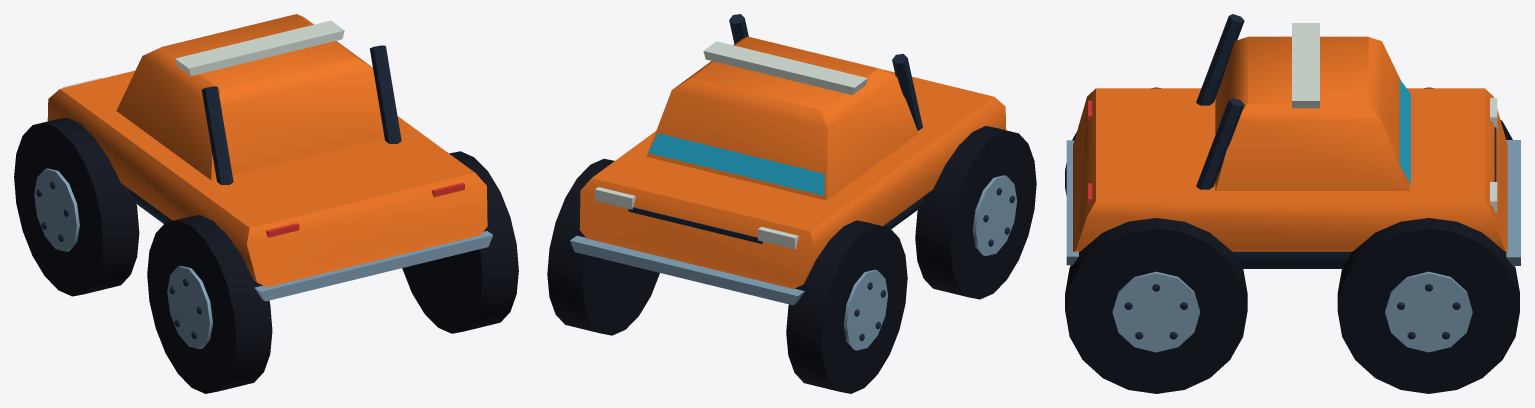
The model's file is MonsterTruck.glb.
3 views of the same model, side by side, from view 1: azimuth 30°, elevation 25°; view 2: azimuth 150°, elevation 25°; view 3: azimuth 270°, elevation 25° (orthographic). The views are drawn at different scales.
Parts seen in each view (by area): view 1: chassis, high_cab, -1_front_tread, -1_rear_tread, 1_rear_tread, roof_lightbar, rear_bumper, -1_front_rim, -1_rear_rim, roll_bar_-1, roll_bar_1; view 2: chassis, high_cab, -1_rear_tread, -1_front_tread, 1_front_tread, windshield, front_bumper, roof_lightbar, -1_rear_rim, -1_front_rim, roll_bar_-1, front_grille (+2 smaller); view 3: chassis, high_cab, 1_front_tread, 1_rear_tread, 1_rear_rim, 1_front_rim, roof_lightbar, undertray, front_bumper, roll_bar_1, roll_bar_-1, windshield (+1 smaller).
Part boxes in pixels (x1,y1,x2,y2): chassis: [47, 70, 487, 287]; high_cab: [116, 14, 384, 180]; -1_front_tread: [14, 117, 139, 296]; -1_rear_tread: [147, 215, 272, 393]; 1_rear_tread: [402, 151, 518, 333]; roof_lightbar: [175, 20, 344, 75]; rear_bumper: [255, 231, 493, 301]; -1_front_rim: [34, 168, 79, 251]; -1_rear_rim: [167, 266, 212, 349]; roll_bar_-1: [201, 86, 233, 184]; roll_bar_1: [369, 45, 401, 143]; chassis: [579, 68, 1006, 288]; high_cab: [646, 36, 918, 200]; -1_rear_tread: [915, 126, 1036, 299]; -1_front_tread: [786, 220, 907, 393]; 1_front_tread: [547, 159, 659, 335]; windshield: [647, 133, 824, 195]; front_bumper: [570, 235, 804, 305]; roof_lightbar: [703, 41, 867, 95]; -1_rear_rim: [972, 175, 1016, 255]; -1_front_rim: [843, 269, 887, 350]; roll_bar_-1: [892, 53, 922, 130]; front_grille: [628, 207, 762, 243]; chassis: [1073, 88, 1507, 251]; high_cab: [1215, 36, 1409, 190]; 1_front_tread: [1337, 218, 1519, 393]; 1_rear_tread: [1065, 218, 1247, 393]; 1_rear_rim: [1112, 271, 1199, 352]; 1_front_rim: [1385, 271, 1472, 352]; roof_lightbar: [1292, 23, 1319, 108]; undertray: [1233, 251, 1351, 268]; front_bumper: [1506, 140, 1520, 265]; roll_bar_1: [1196, 98, 1244, 189]; roll_bar_-1: [1196, 14, 1244, 105]; windshield: [1399, 79, 1410, 184].
Size of the model in its own units: 3.79 by 3.15 by 4.9.
